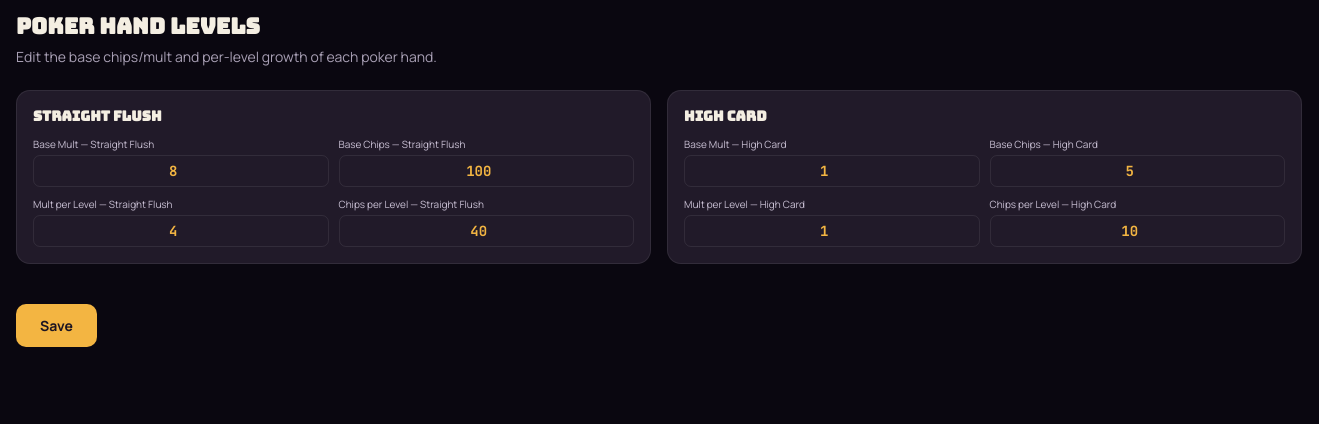
PokerHandsScreen › shows a provisional, unconfirmed warning when a field drifts more than 20 from its loaded value
Replace the text in the number field labelled "Base Mult — Straight Flush" with "50": (181, 171) [33,155,328,187]
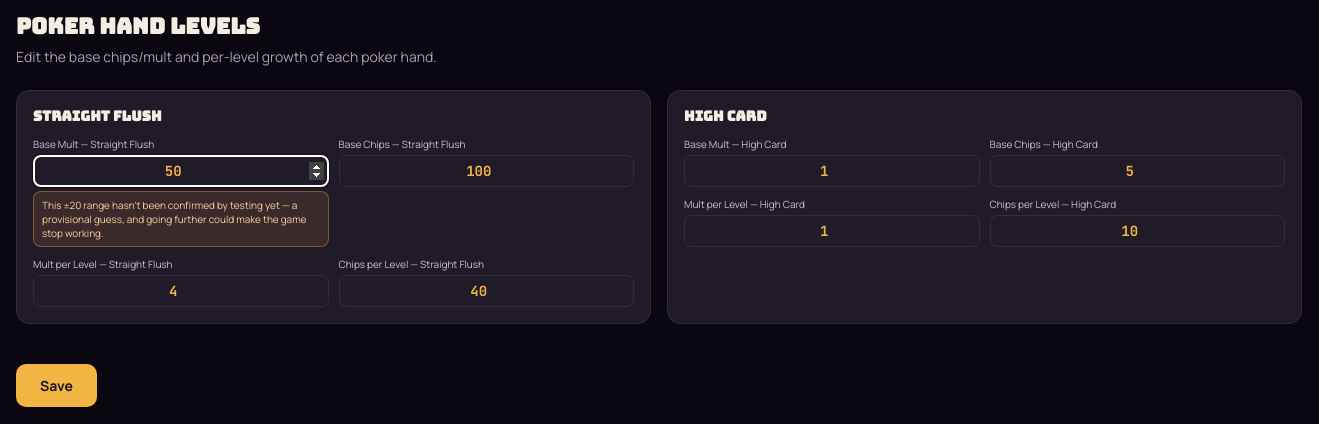
Now the text "hasn't been confirmed by testing" is shown, box [42,198,306,240]
